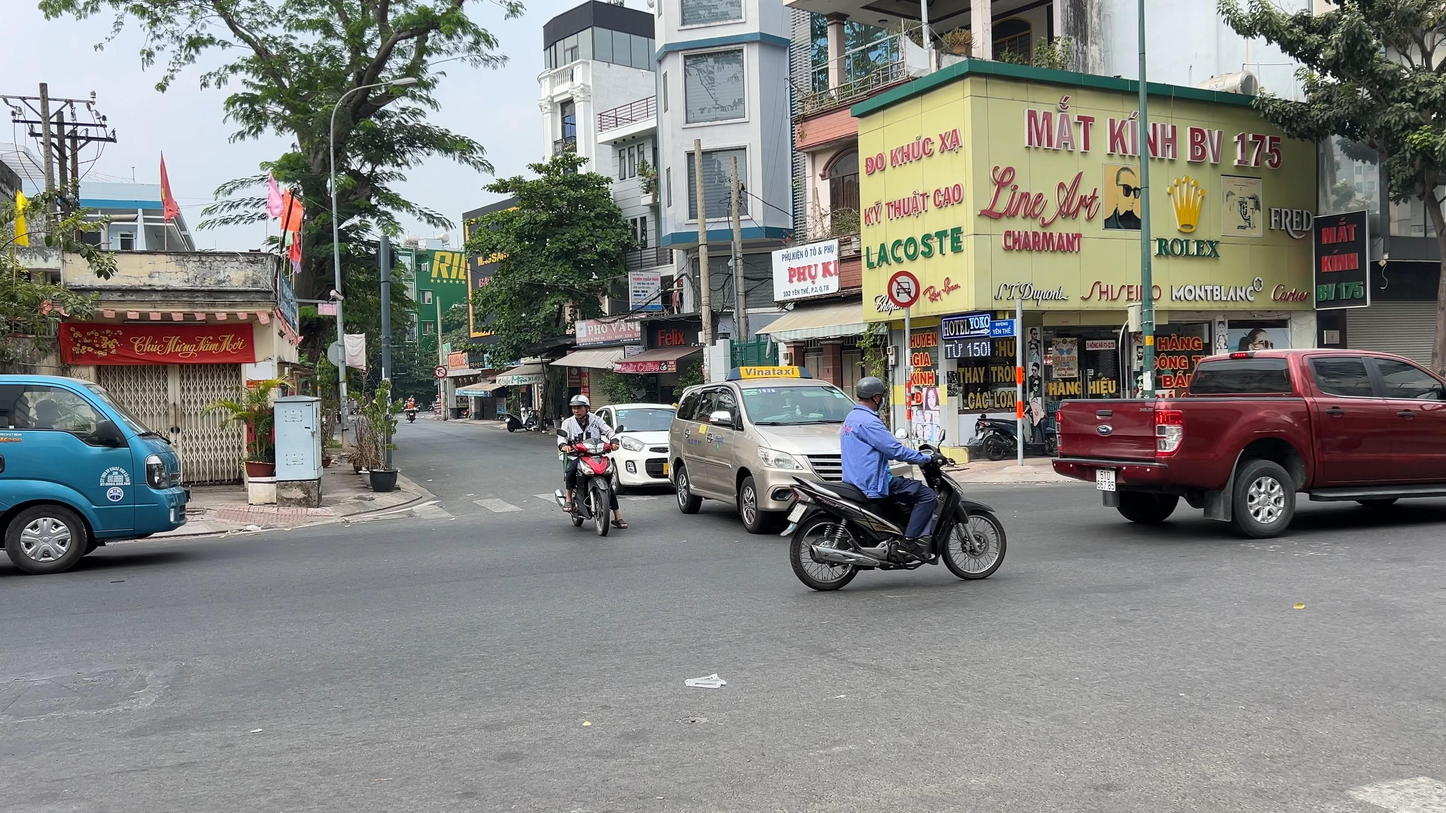driver: (779, 377, 1007, 592), (555, 394, 628, 537), (404, 398, 419, 423)
helmet: (855, 377, 886, 411), (569, 395, 590, 419)
